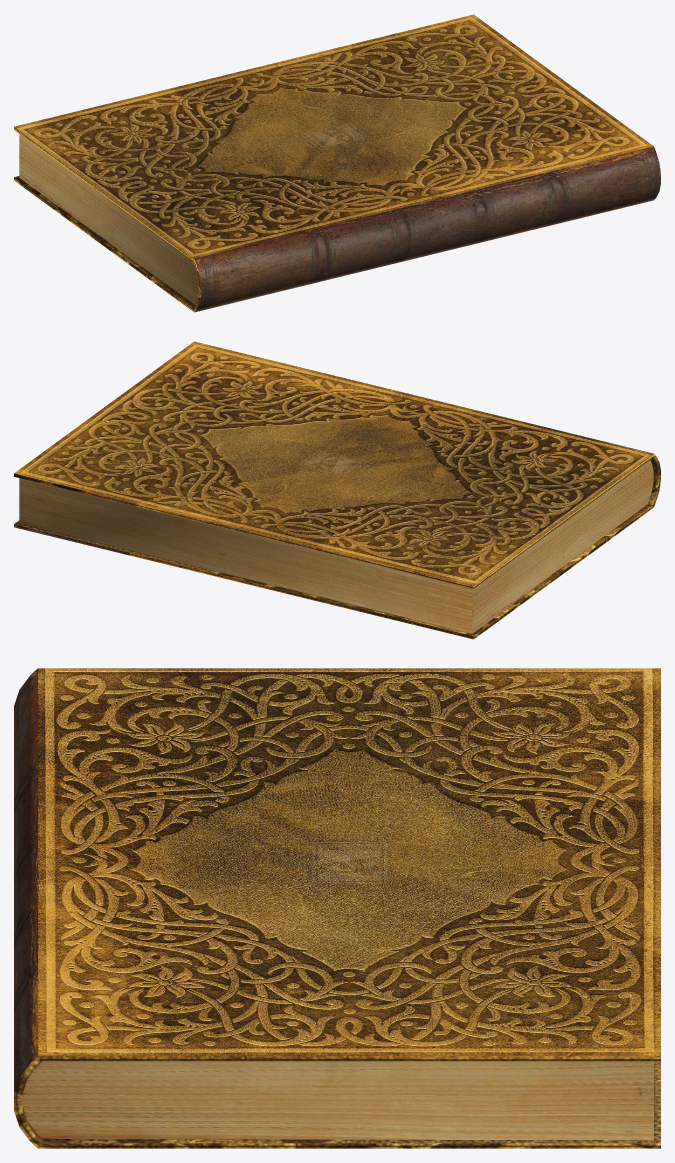
Rendered from Book_11.obj.
3 renders of one model, top to bottom at view 1: azimuth 30°, elevation 25°; view 2: azimuth 150°, elevation 25°; view 3: azimuth 270°, elevation 25°, orthographic. The views are drawn at different scales.
Parts seen in each view (by area): view 1: Book.005_Cube.010; view 2: Book.005_Cube.010; view 3: Book.005_Cube.010.
Boxes of the visible parts, x1,y1,x2,y2 form: Book.005_Cube.010: [14, 14, 660, 312]; Book.005_Cube.010: [14, 341, 660, 639]; Book.005_Cube.010: [14, 668, 660, 1148].
Size of the model in its own units: 1.95 by 0.2181 by 1.37.
